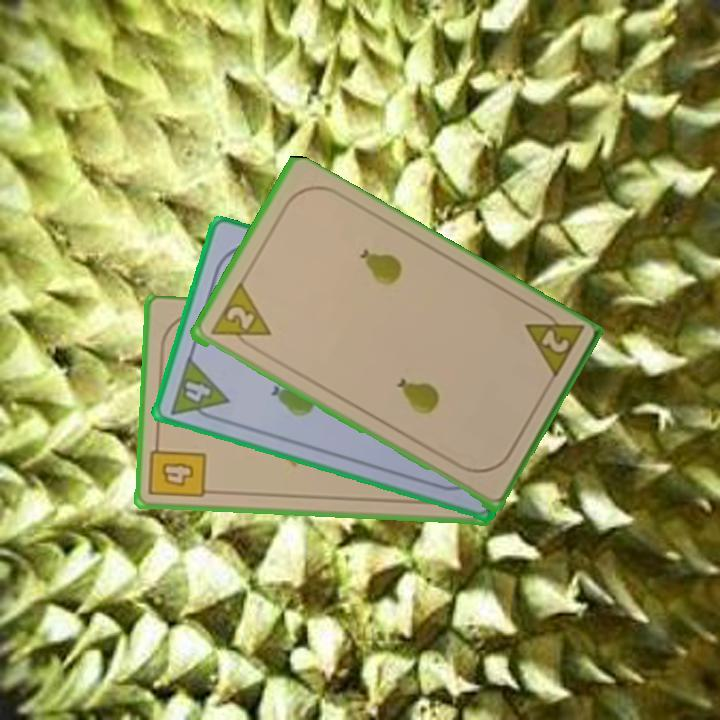2p: (520, 303, 586, 384), (206, 281, 274, 354)
4b: (146, 437, 209, 501)
4p: (167, 353, 232, 426)
